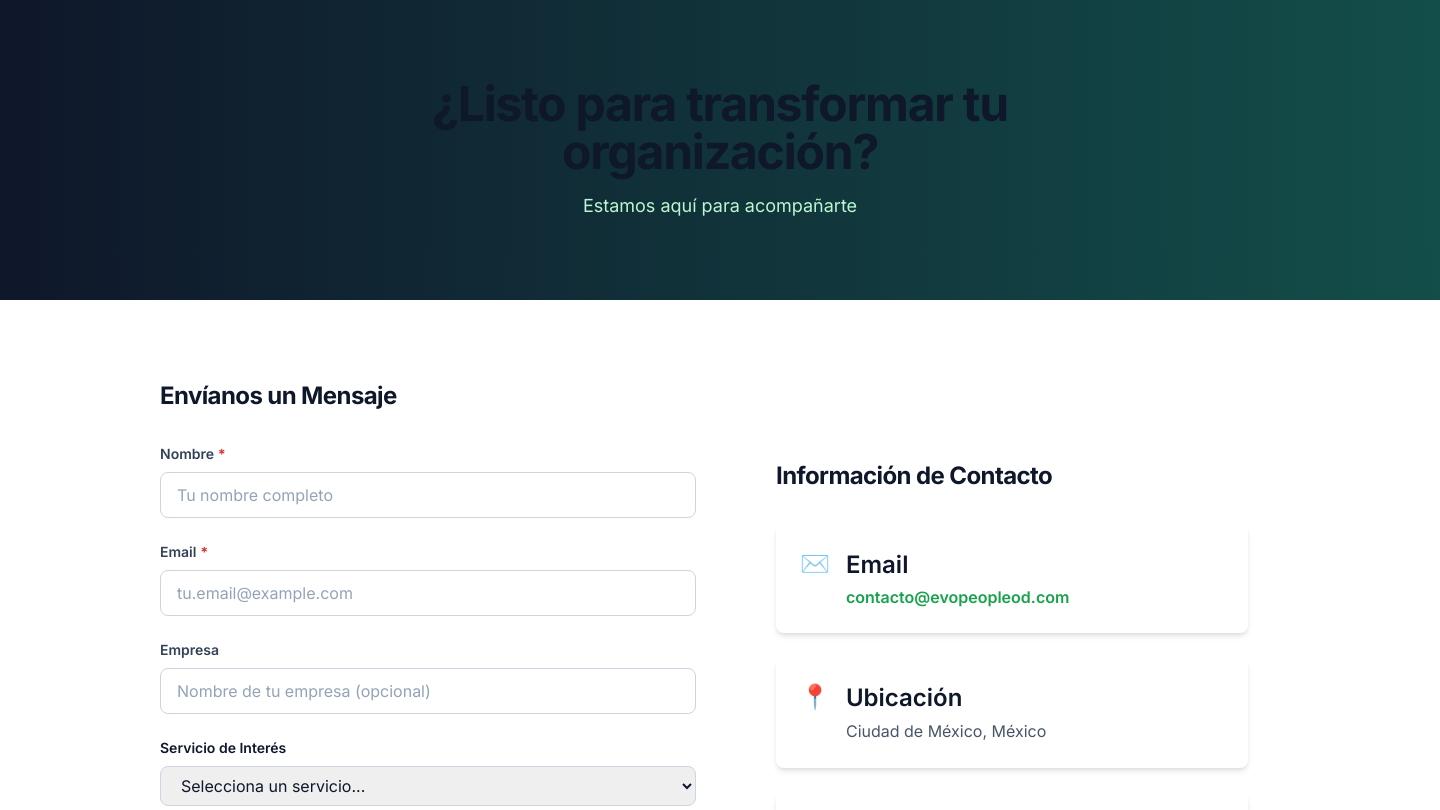
Test: E2E Smoke Tests - Critical User Flows › Flow 3: Complete Contact Form Submission › user can submit contact form successfully
Note: Fill form with all required fields
Type "John Doe" into the field labelled "Nombre*" at [428, 495], box [160, 472, 696, 518]
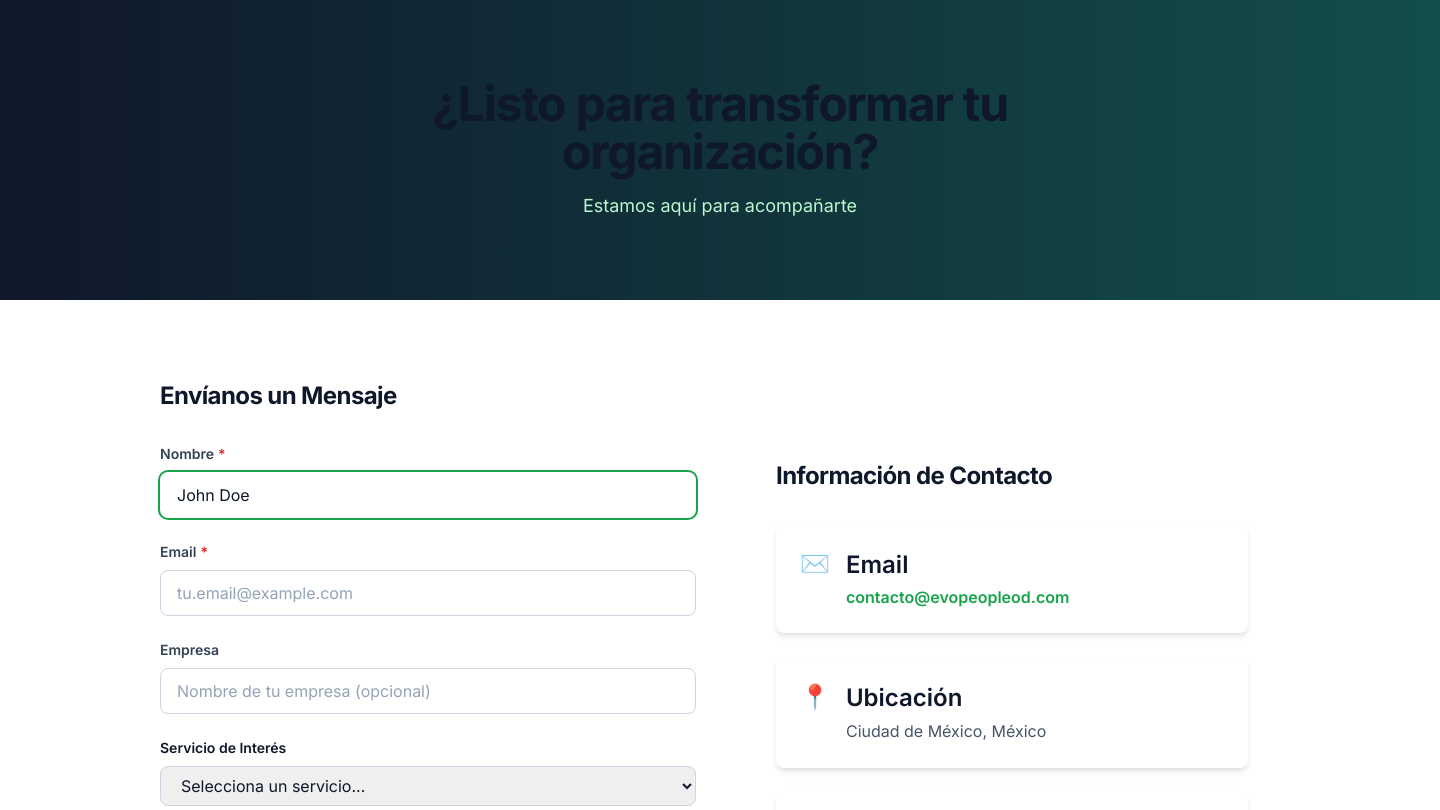
Type "john@example.com" into the field labelled "Email*" at [428, 593], box [160, 570, 696, 616]
(page scrolled)
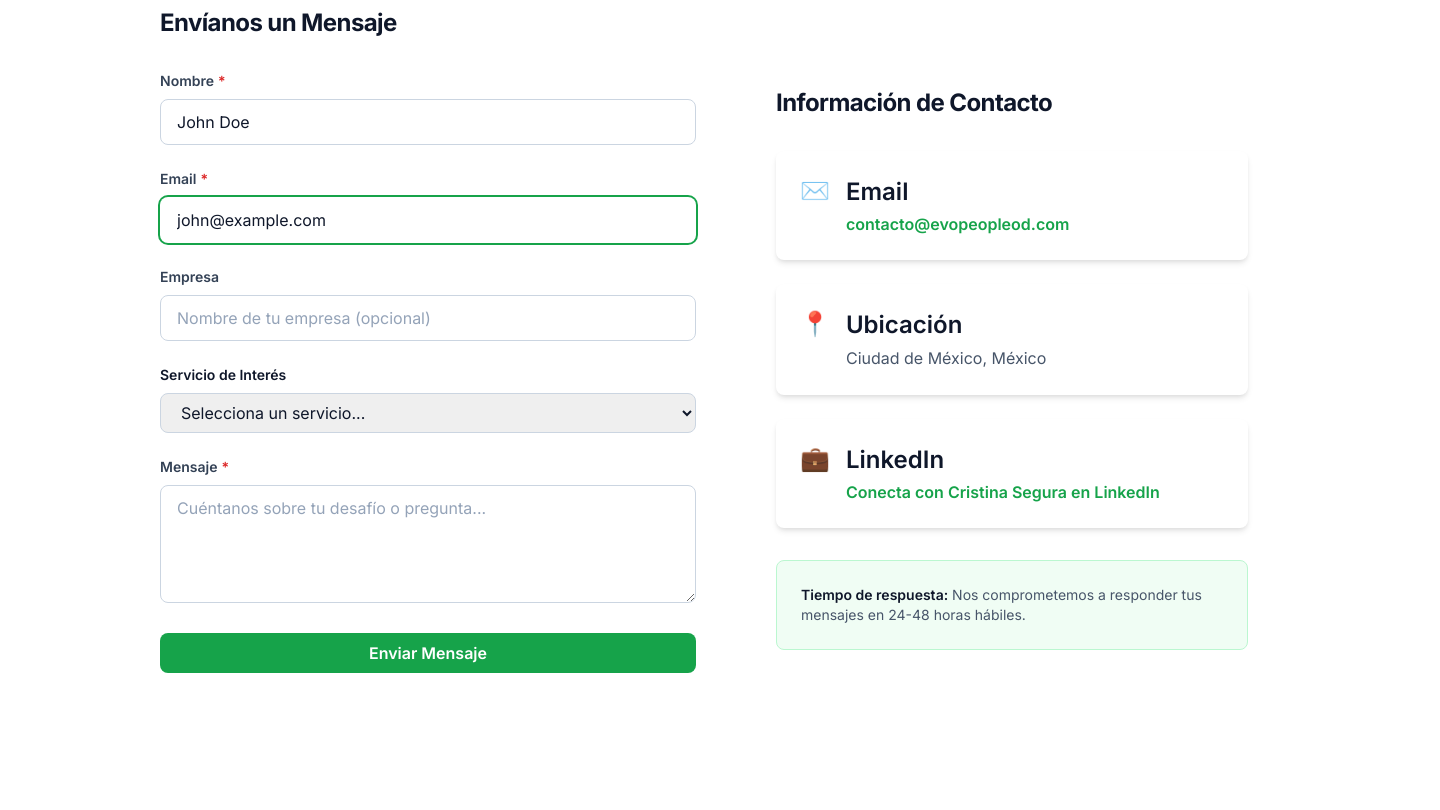
Type "I would like to learn more" into the text box labelled "Mensaje*" at [428, 544], box [160, 485, 696, 603]
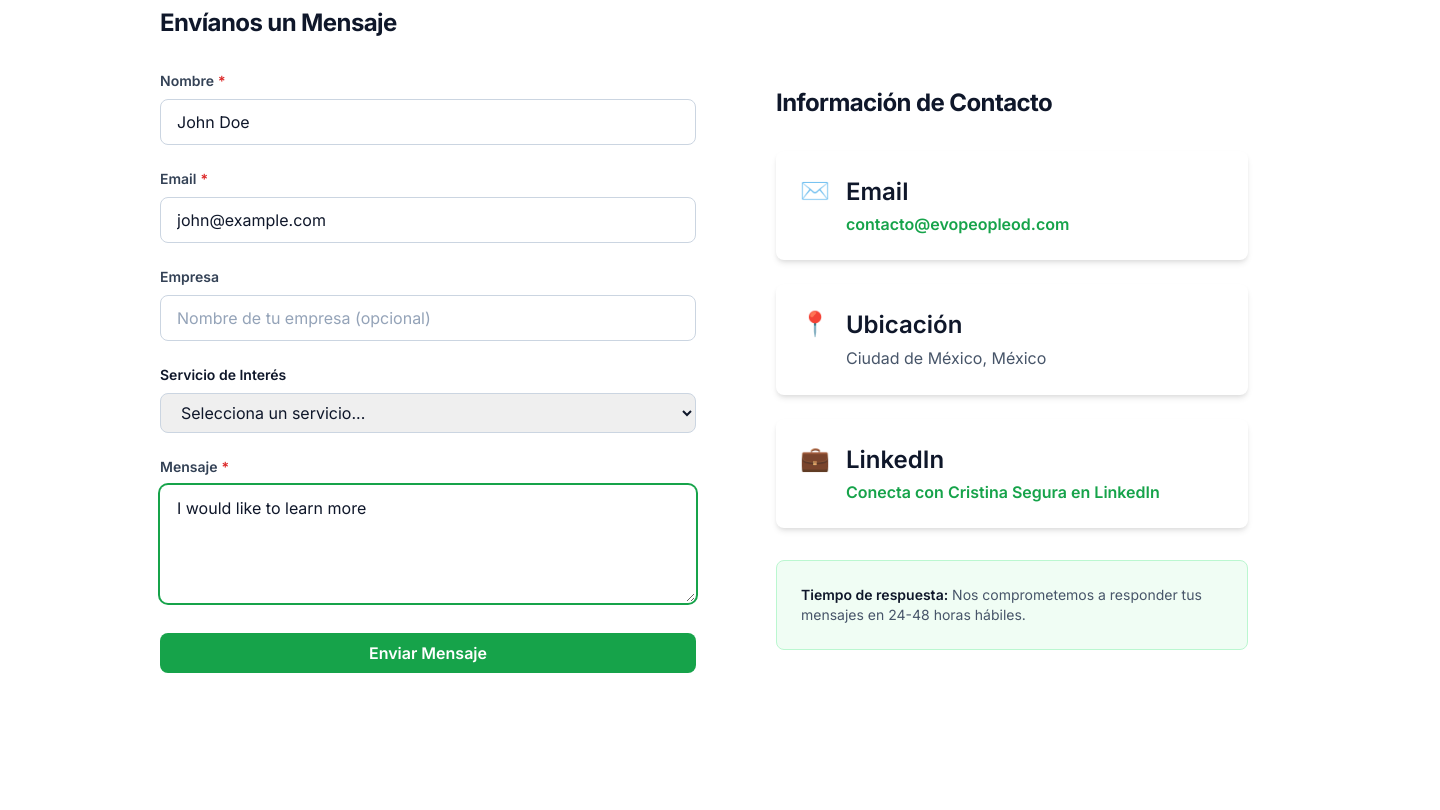
Note: Submit form
Click the button "Enviar Mensaje" at [428, 653], box [160, 633, 696, 673]
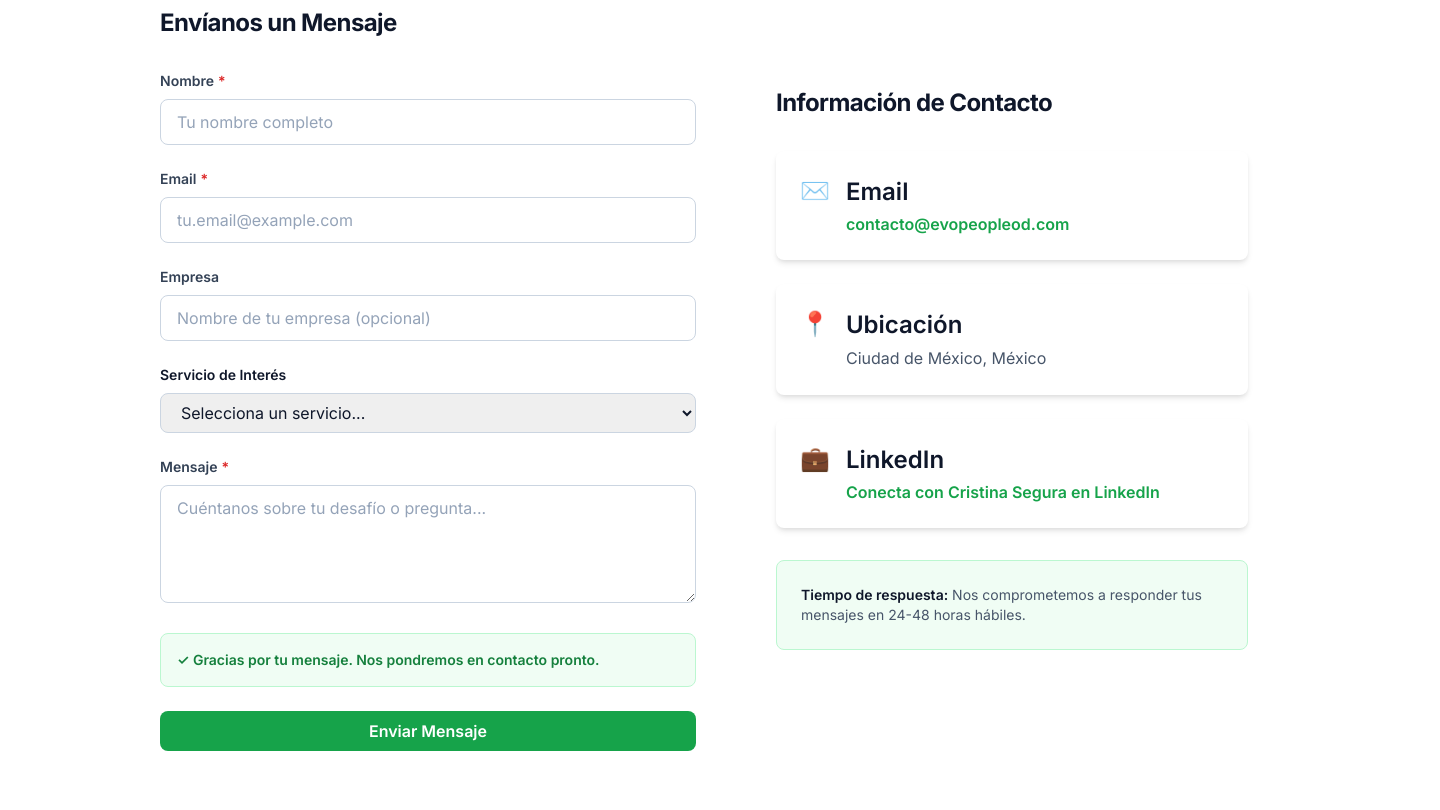
Now the text "✓ Gracias por tu mensaje. Nos pondremos en contacto pronto." is shown, box [177, 651, 600, 668]
